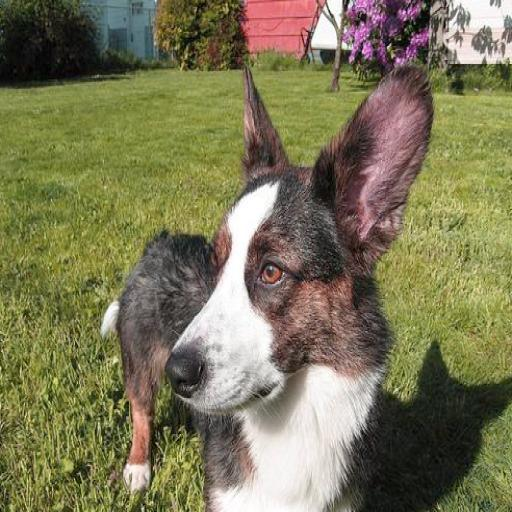dog_face: (145, 65, 442, 411)
